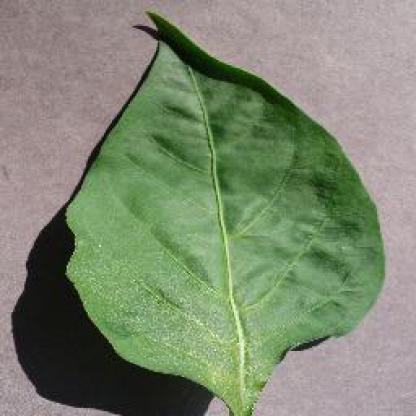good leaf: (40, 21, 398, 412)
